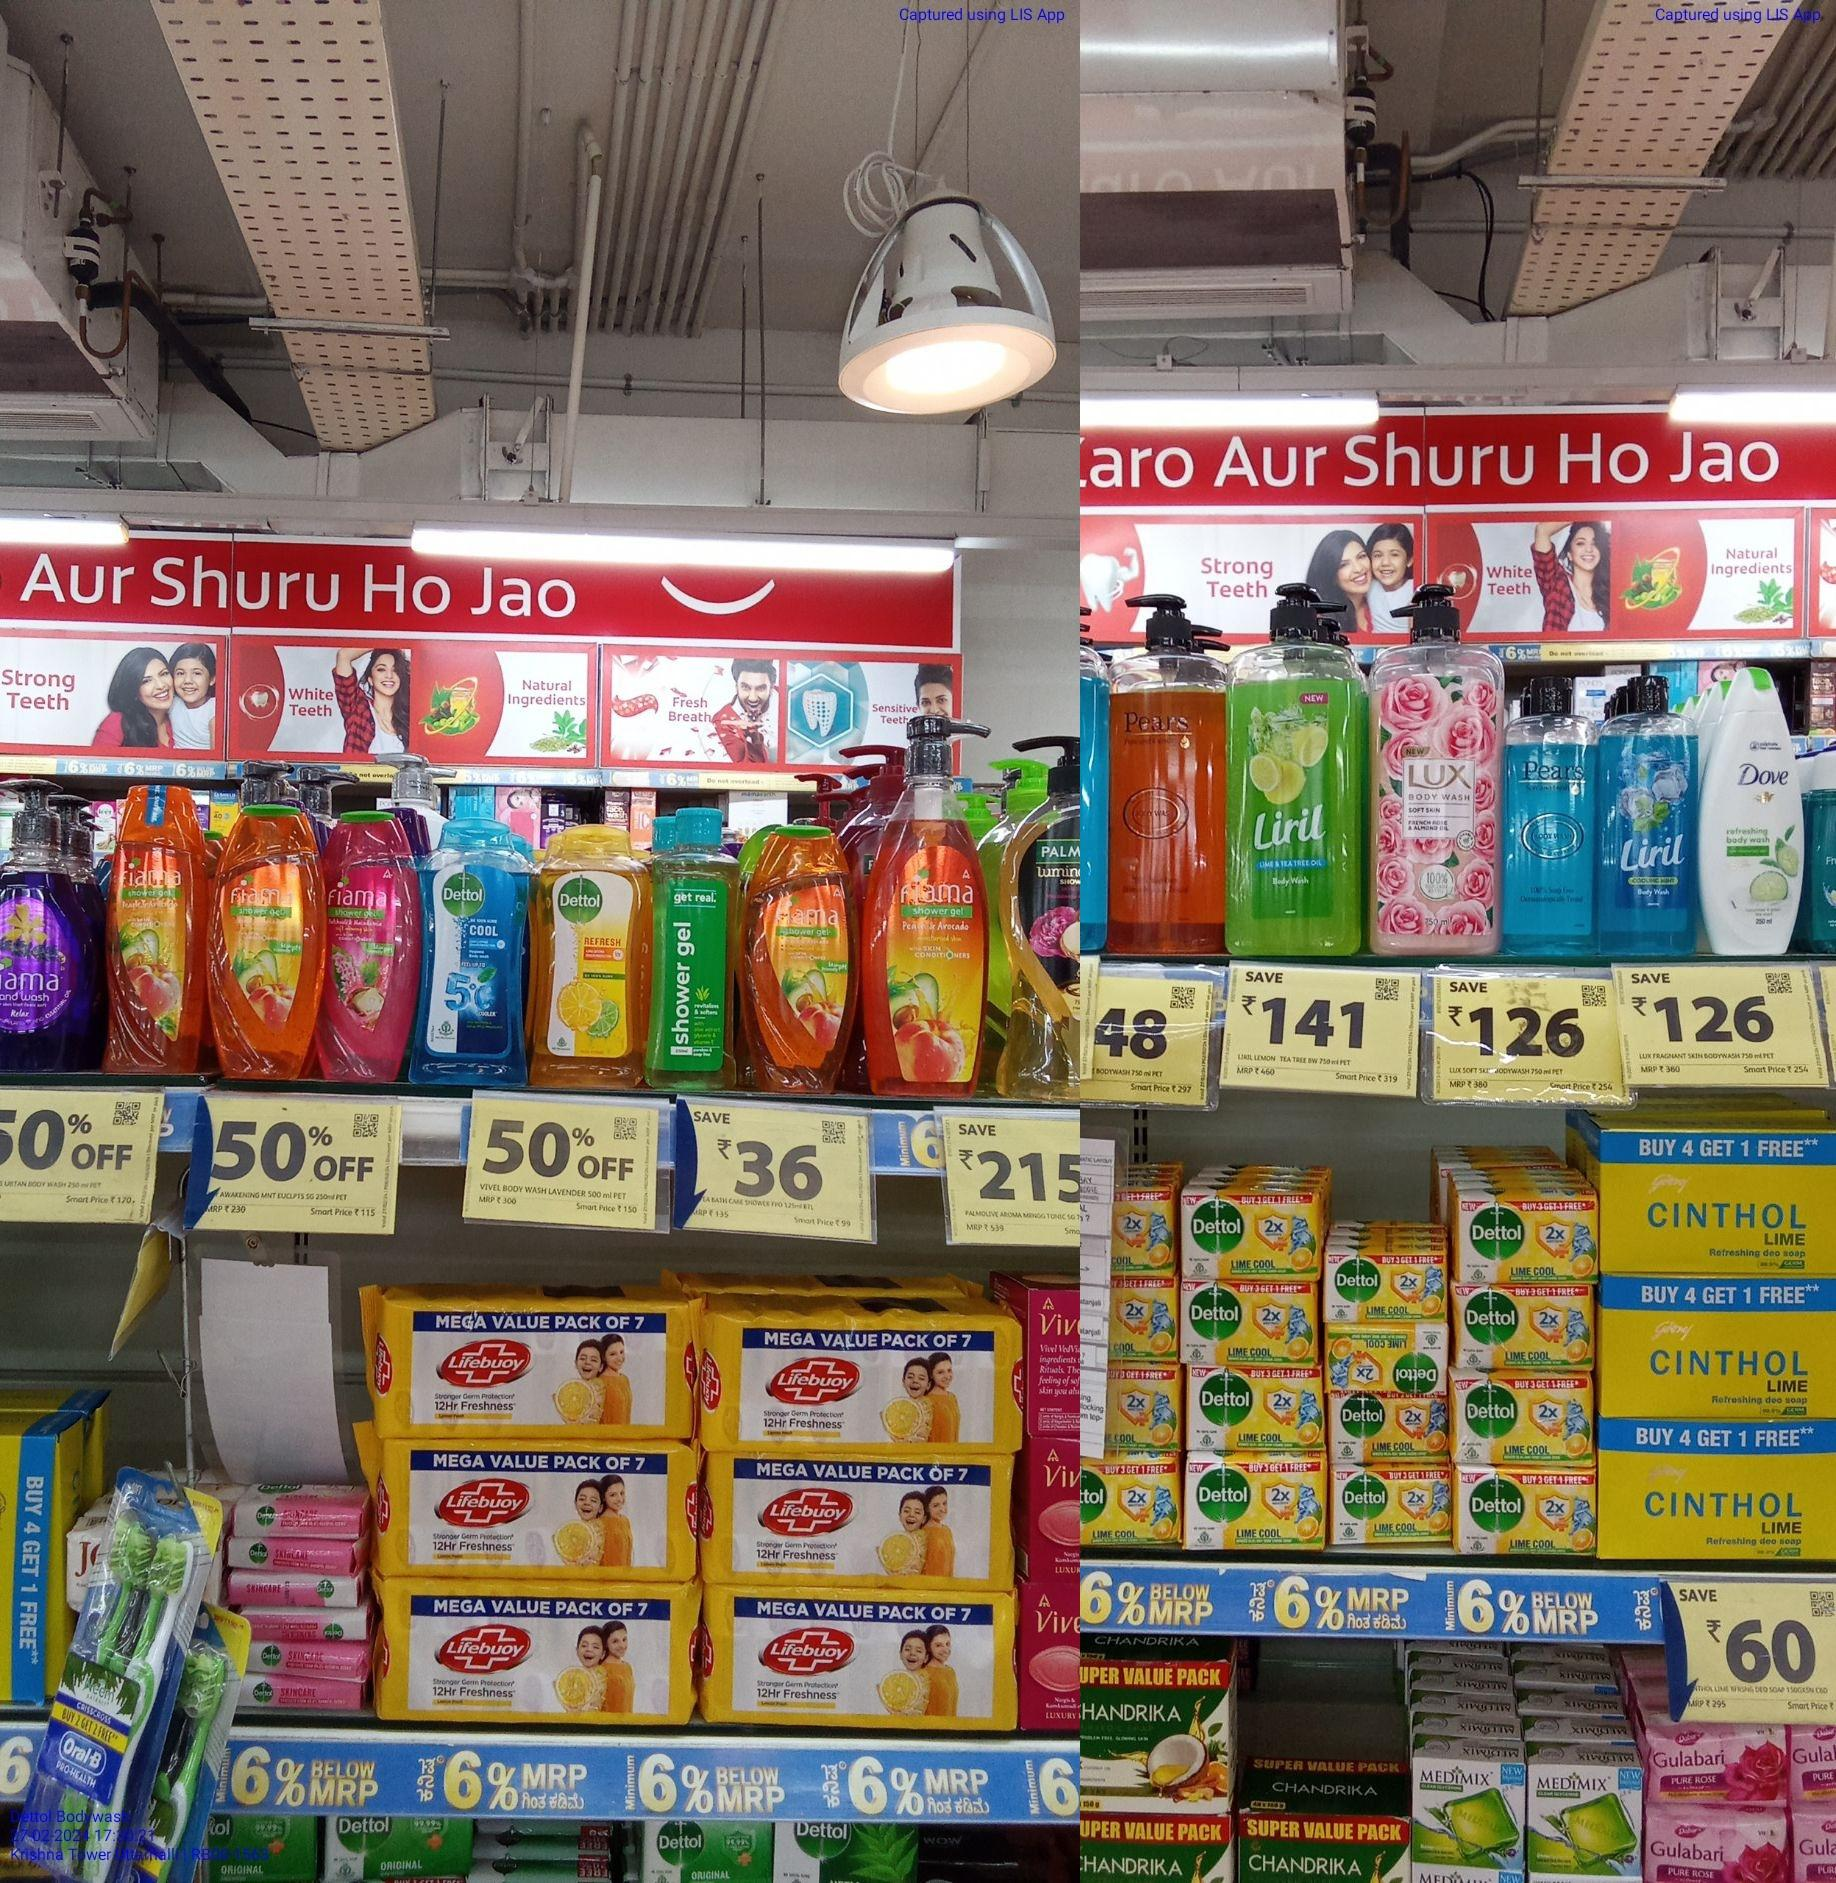Dettol_Bodywash_Cool: (414, 814, 516, 1081)
Dettol_Bodywash_Refresh: (530, 822, 642, 1084)
Dove_Refreshing_Body_Wash_250ML: (1708, 667, 1801, 960)
Fiama_Shower_Gel_Patchouli_and_Macadamia_250ML: (319, 799, 412, 1084)
Fiama_Shower_Gel_Peach_and_Avocado_250ML: (208, 804, 319, 1084), (753, 822, 856, 1100)
Liril_Cooling_Mint_Body_Wash_250ML: (1601, 667, 1695, 963)
Pears_Pure_Glycerin_and_Mint_Extracts_Body_Wash_250ML: (1500, 666, 1591, 965)
